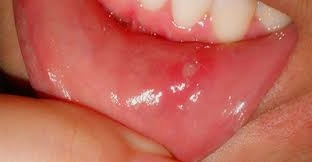Ulcer: (176, 56, 208, 85)
